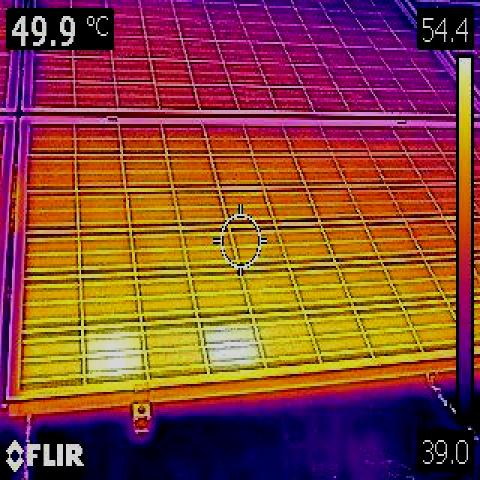fault: (89, 326, 141, 380), (205, 327, 261, 369)
